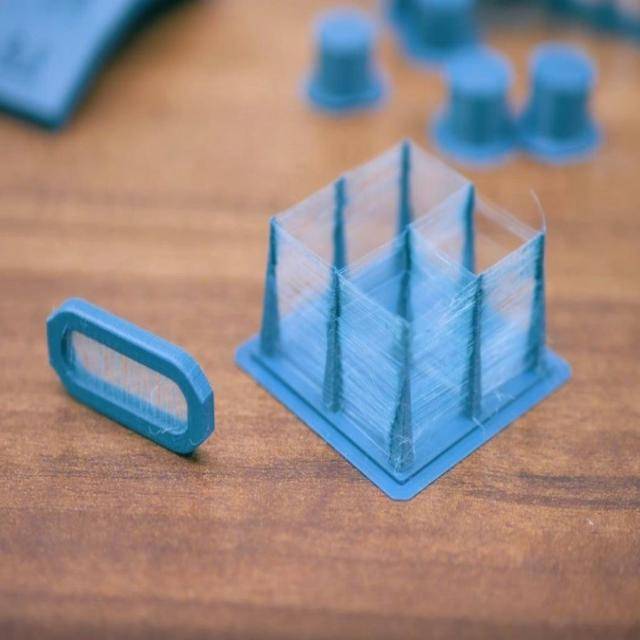Stringing: (66, 322, 183, 440), (408, 273, 473, 445), (338, 272, 397, 443), (481, 231, 545, 382), (276, 220, 328, 393)
